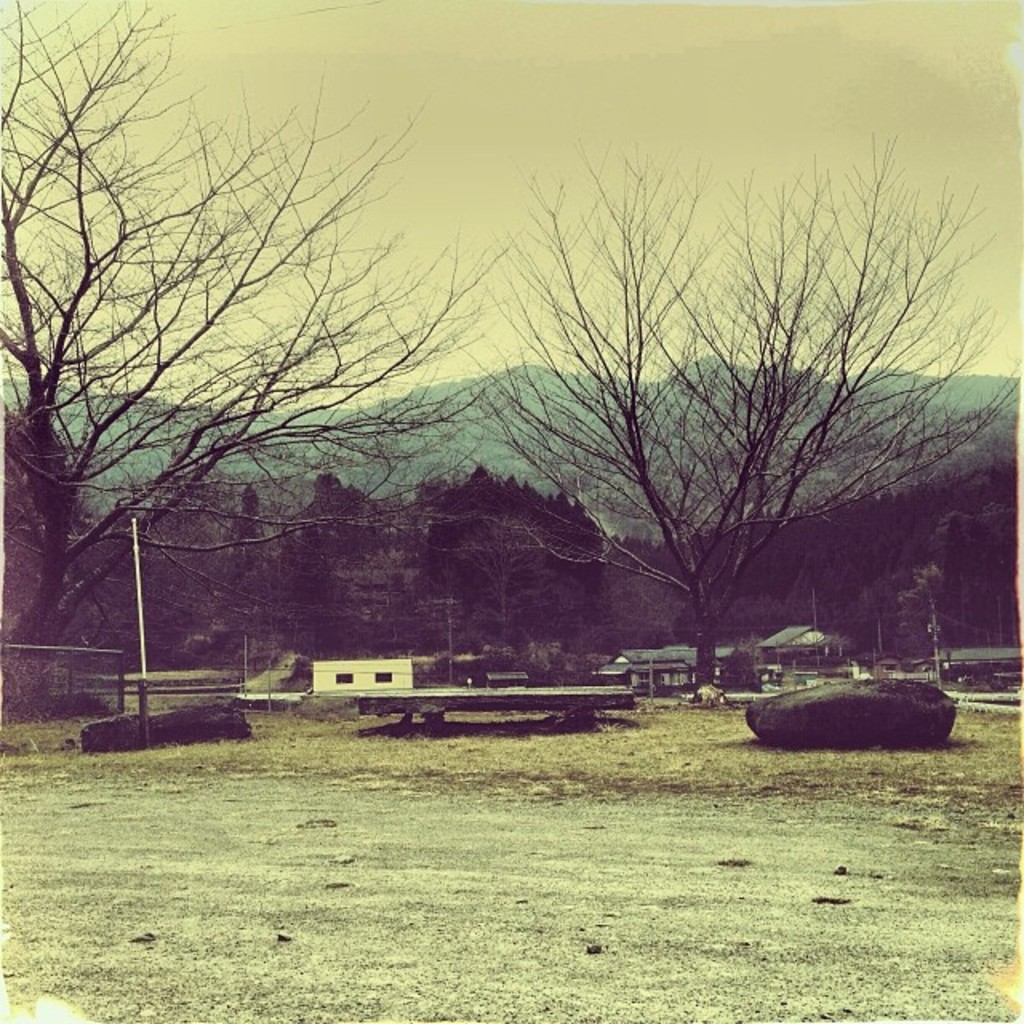Tree: (0, 0, 516, 647), (436, 126, 963, 708), (0, 462, 1022, 654)
